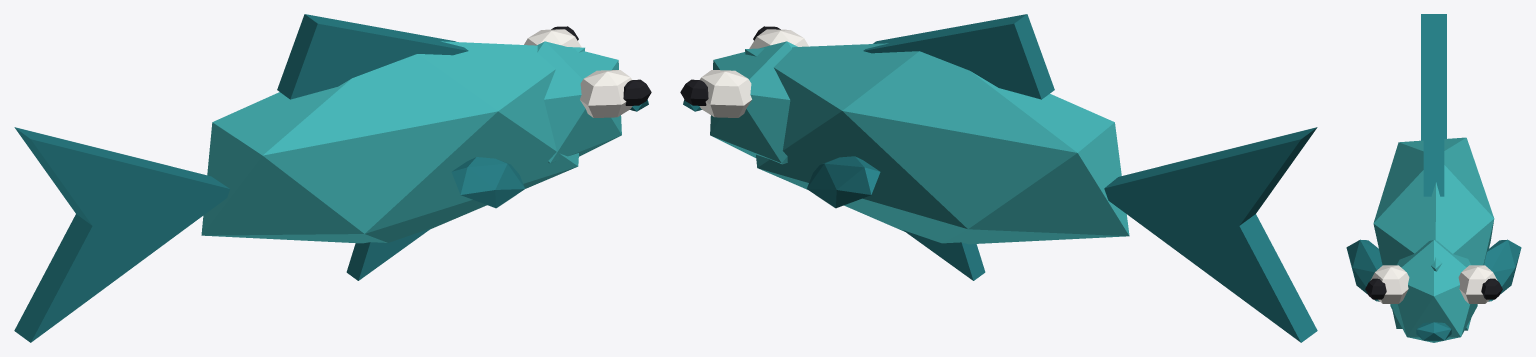
File: fish_slim.glb
3 views of the same model, side by side, from view 1: azimuth 30°, elevation 25°; view 2: azimuth 150°, elevation 25°; view 3: azimuth 270°, elevation 25° (orthographic). The views are drawn at different scales.
Parts seen in each view (by area): view 1: fish_slim; view 2: fish_slim; view 3: fish_slim.
Part boxes in pixels (x1,y1,x2,y2): fish_slim: [14, 14, 651, 342]; fish_slim: [680, 14, 1317, 342]; fish_slim: [1346, 14, 1521, 342].
Bounding box in the file's own units: 0.5433 × 0.2235 × 0.1703.
